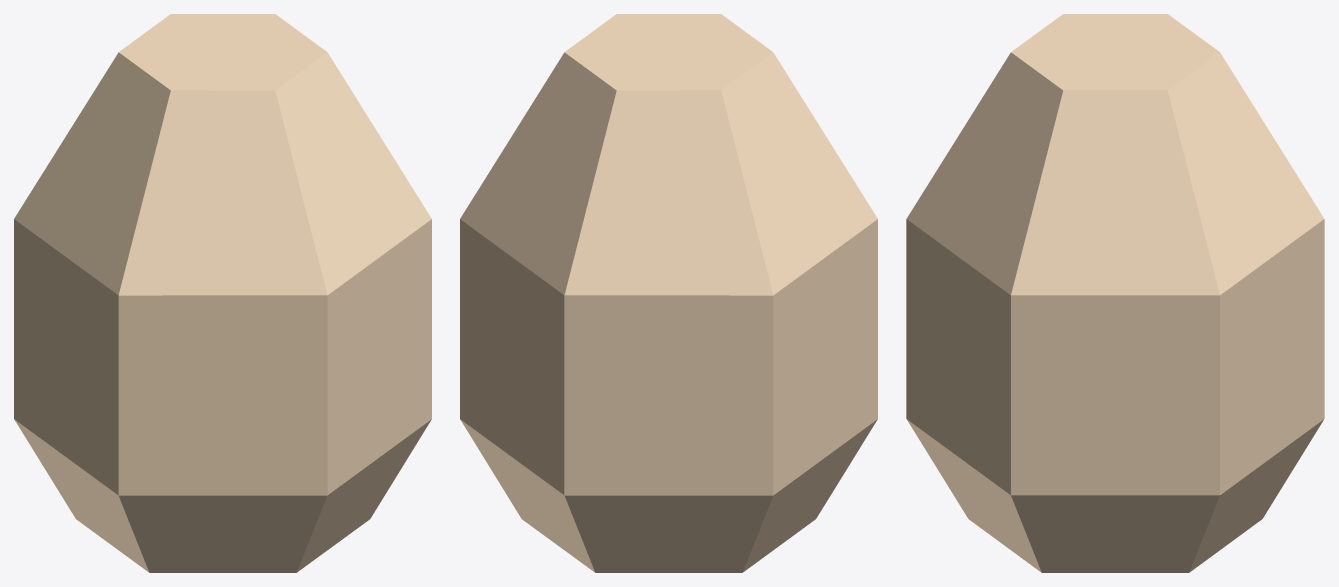
The model's file is egg.glb.
The picture shows the model from 3 angles, left to right: view 1: azimuth 30°, elevation 25°; view 2: azimuth 150°, elevation 25°; view 3: azimuth 270°, elevation 25°; orthographic projection.
Visible parts, largest first — view 1: egg; view 2: egg; view 3: egg.
Boxes of the visible parts, x1=… form: egg: x1=14, y1=14, x2=431, y2=572; egg: x1=460, y1=14, x2=877, y2=572; egg: x1=906, y1=14, x2=1324, y2=572.
Size of the model in its own units: 0.1161 by 0.1652 by 0.134.
